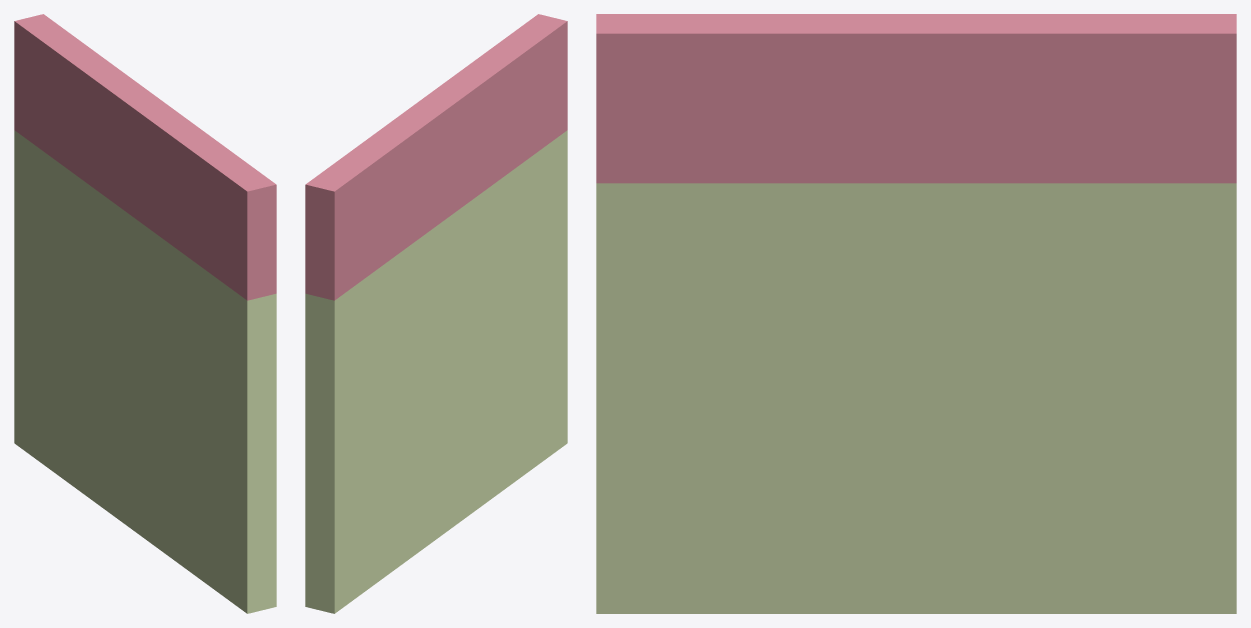
Rendered from zid dvobojno.fbx.
3 views of the same model, side by side, from view 1: azimuth 30°, elevation 25°; view 2: azimuth 150°, elevation 25°; view 3: azimuth 270°, elevation 25° (orthographic). The views are drawn at different scales.
Parts seen in each view (by area): view 1: Cube; view 2: Cube; view 3: Cube.
Part boxes in pixels (x1,y1,x2,y2): Cube: (14, 14, 276, 613); Cube: (305, 14, 567, 613); Cube: (596, 14, 1236, 613).
Size of the model in its own units: 56.07 by 777 by 777.
